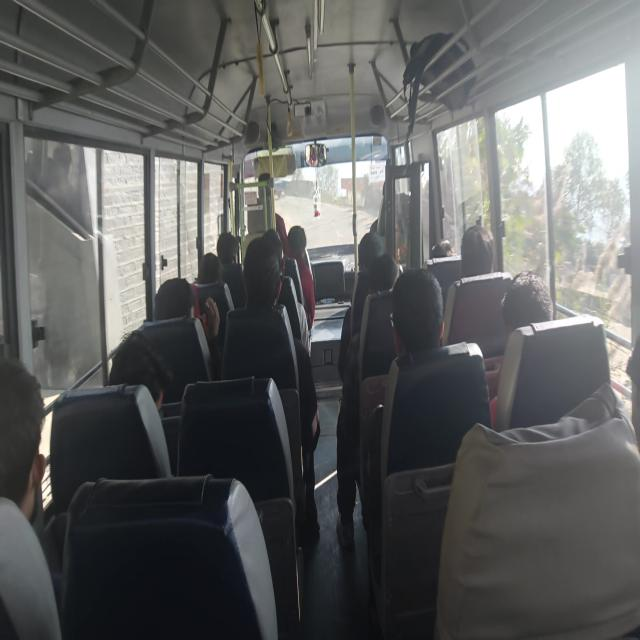person: (434, 382, 640, 638), (358, 266, 492, 550), (222, 232, 321, 536), (335, 252, 401, 548), (0, 356, 62, 638), (487, 270, 554, 427), (337, 231, 385, 381), (108, 329, 173, 415), (153, 276, 220, 346), (501, 270, 554, 338), (287, 225, 315, 331), (460, 224, 494, 278), (357, 230, 384, 272), (196, 251, 223, 285), (217, 231, 240, 265), (430, 238, 454, 258)
